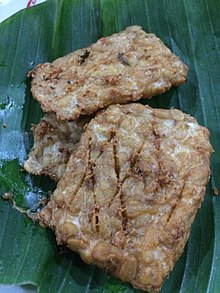Tempe: (43, 112, 202, 272), (18, 22, 171, 118)
